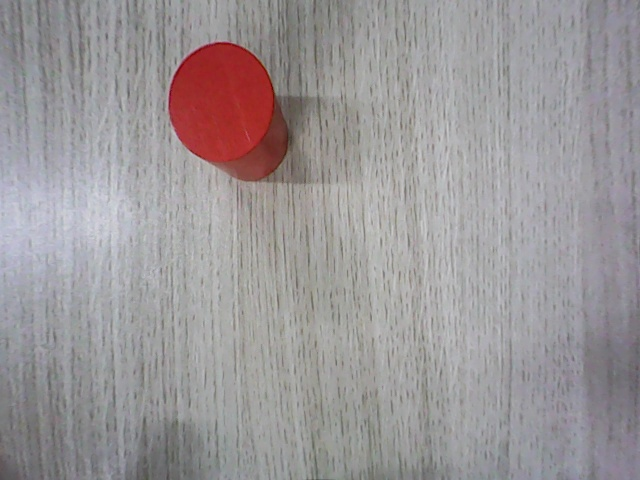upside of cylinder: (168, 42, 273, 162)
